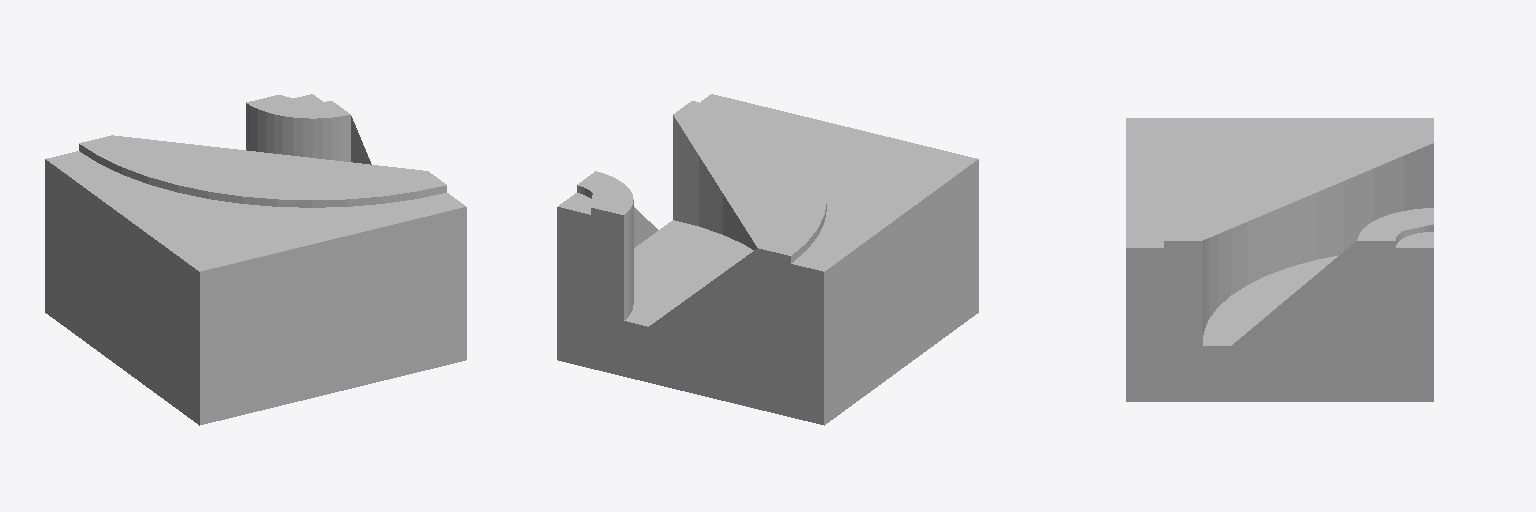
Rendered from roadTile_172.obj.
The picture shows the model from 3 angles: view 1: azimuth 30°, elevation 25°; view 2: azimuth 150°, elevation 25°; view 3: azimuth 270°, elevation 25°; orthographic projection.
Parts seen in each view (by area): view 1: Mesh1 Group1 Model; view 2: Mesh1 Group1 Model; view 3: Mesh1 Group1 Model.
Boxes of the visible parts, <box> form: Mesh1 Group1 Model: <box>45,94,466,425</box>; Mesh1 Group1 Model: <box>557,94,978,425</box>; Mesh1 Group1 Model: <box>1126,118,1433,401</box>.
Bounding box in the file's own units: 3 × 1.73 × 3.